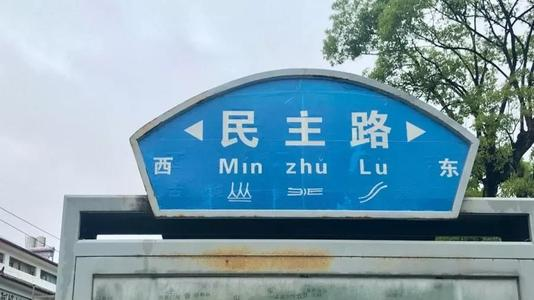chinese: (217, 104, 395, 150), (149, 149, 179, 180), (437, 152, 463, 182)
naxi: (216, 175, 396, 205)
